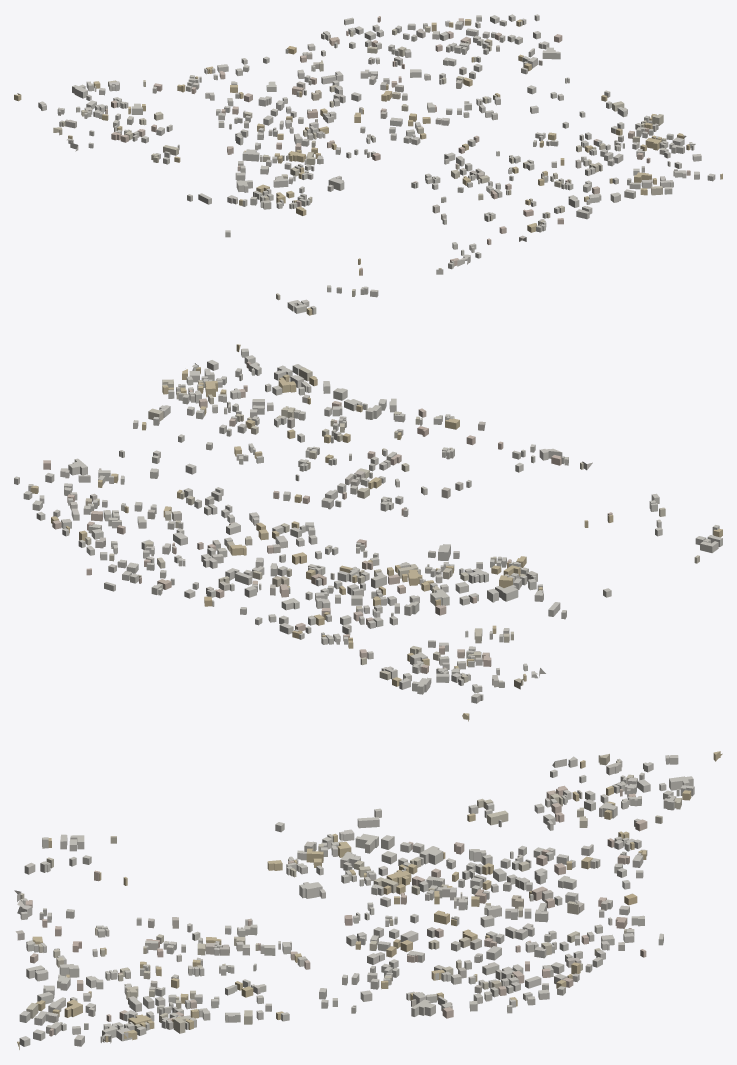
3 views of the same model, one above another, from view 1: azimuth 30°, elevation 25°; view 2: azimuth 150°, elevation 25°; view 3: azimuth 270°, elevation 25° (orthographic). The views are drawn at different scales.
Bounding box in the file's own units: 1013 × 165 × 1015.
